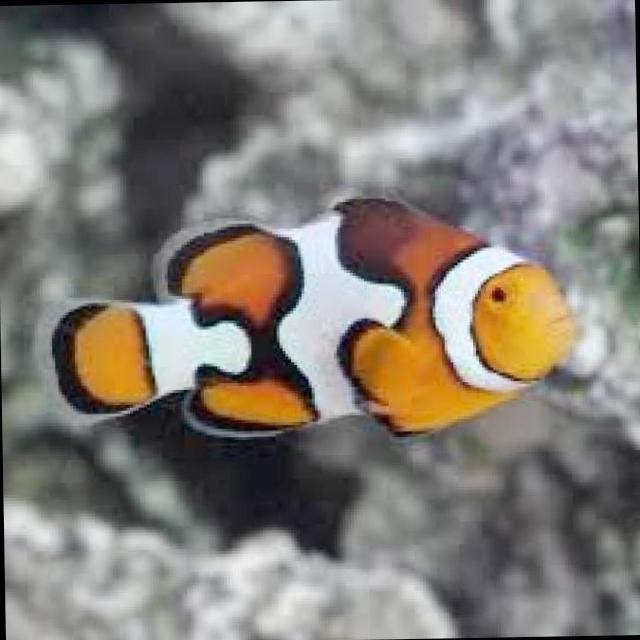ClownFish: (49, 191, 582, 446)
